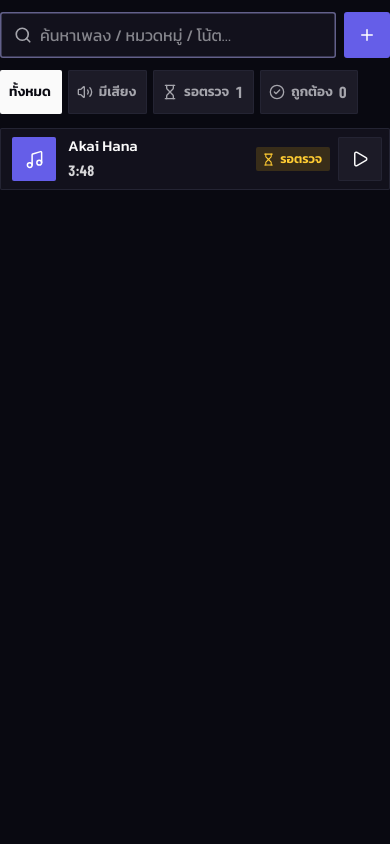
Test: SongLibrary — Black Stage layout › an approver's phone row shows rights as a chip only; the cycle control lives in the sheet and the table
This screenshot has width=390, height=844.
Expected: the text "รอตรวจ" is shown, x1=256 y1=147 x2=330 y2=171
# and so does the song's sheet
Click the button "Akai Hana 3:48" at coordinates (130, 159), box x1=12 y1=137 x2=248 y2=181
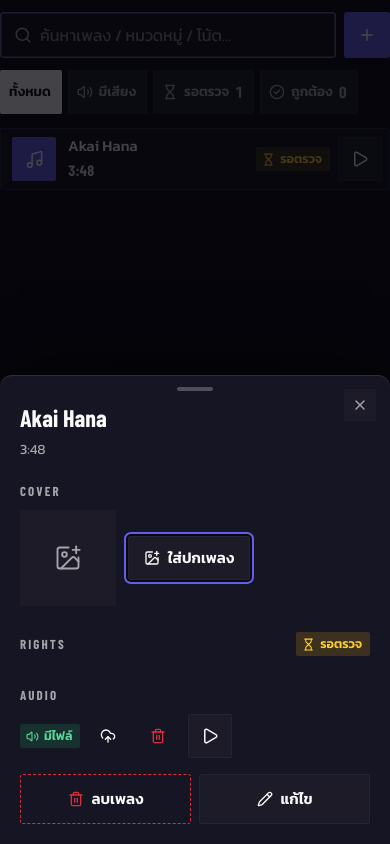
Expected: the button titled "เปลี่ยนสถานะลิขสิทธิ์" is shown, x1=296 y1=622 x2=370 y2=666
